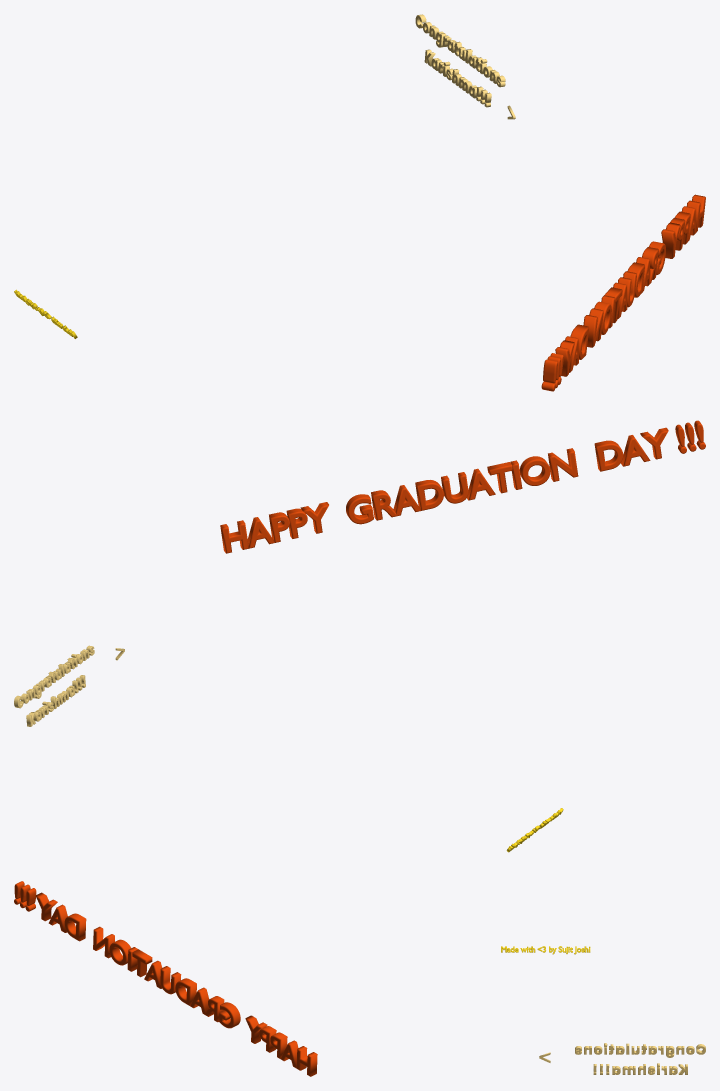
File: wishesScene.gltf
The picture shows the model from 3 angles, top to bottom: view 1: azimuth 30°, elevation 25°; view 2: azimuth 150°, elevation 25°; view 3: azimuth 270°, elevation 25°; orthographic projection. The views are drawn at different scales.
Parts seen in each view (by area): view 1: Text.004, Text.002; view 2: Text.004, Text.002; view 3: Text.004, Text.002, Text.
Boxes of the visible parts, x1,y1,x2,y2 form: Text.004: [541, 194, 705, 391]; Text.002: [415, 14, 505, 107]; Text.004: [220, 420, 705, 553]; Text.002: [14, 645, 94, 726]; Text.004: [14, 881, 317, 1076]; Text.002: [575, 1043, 705, 1074]; Text: [501, 946, 590, 954].
Bounding box in the file's own units: 19.3 × 6.24 × 29.73.
